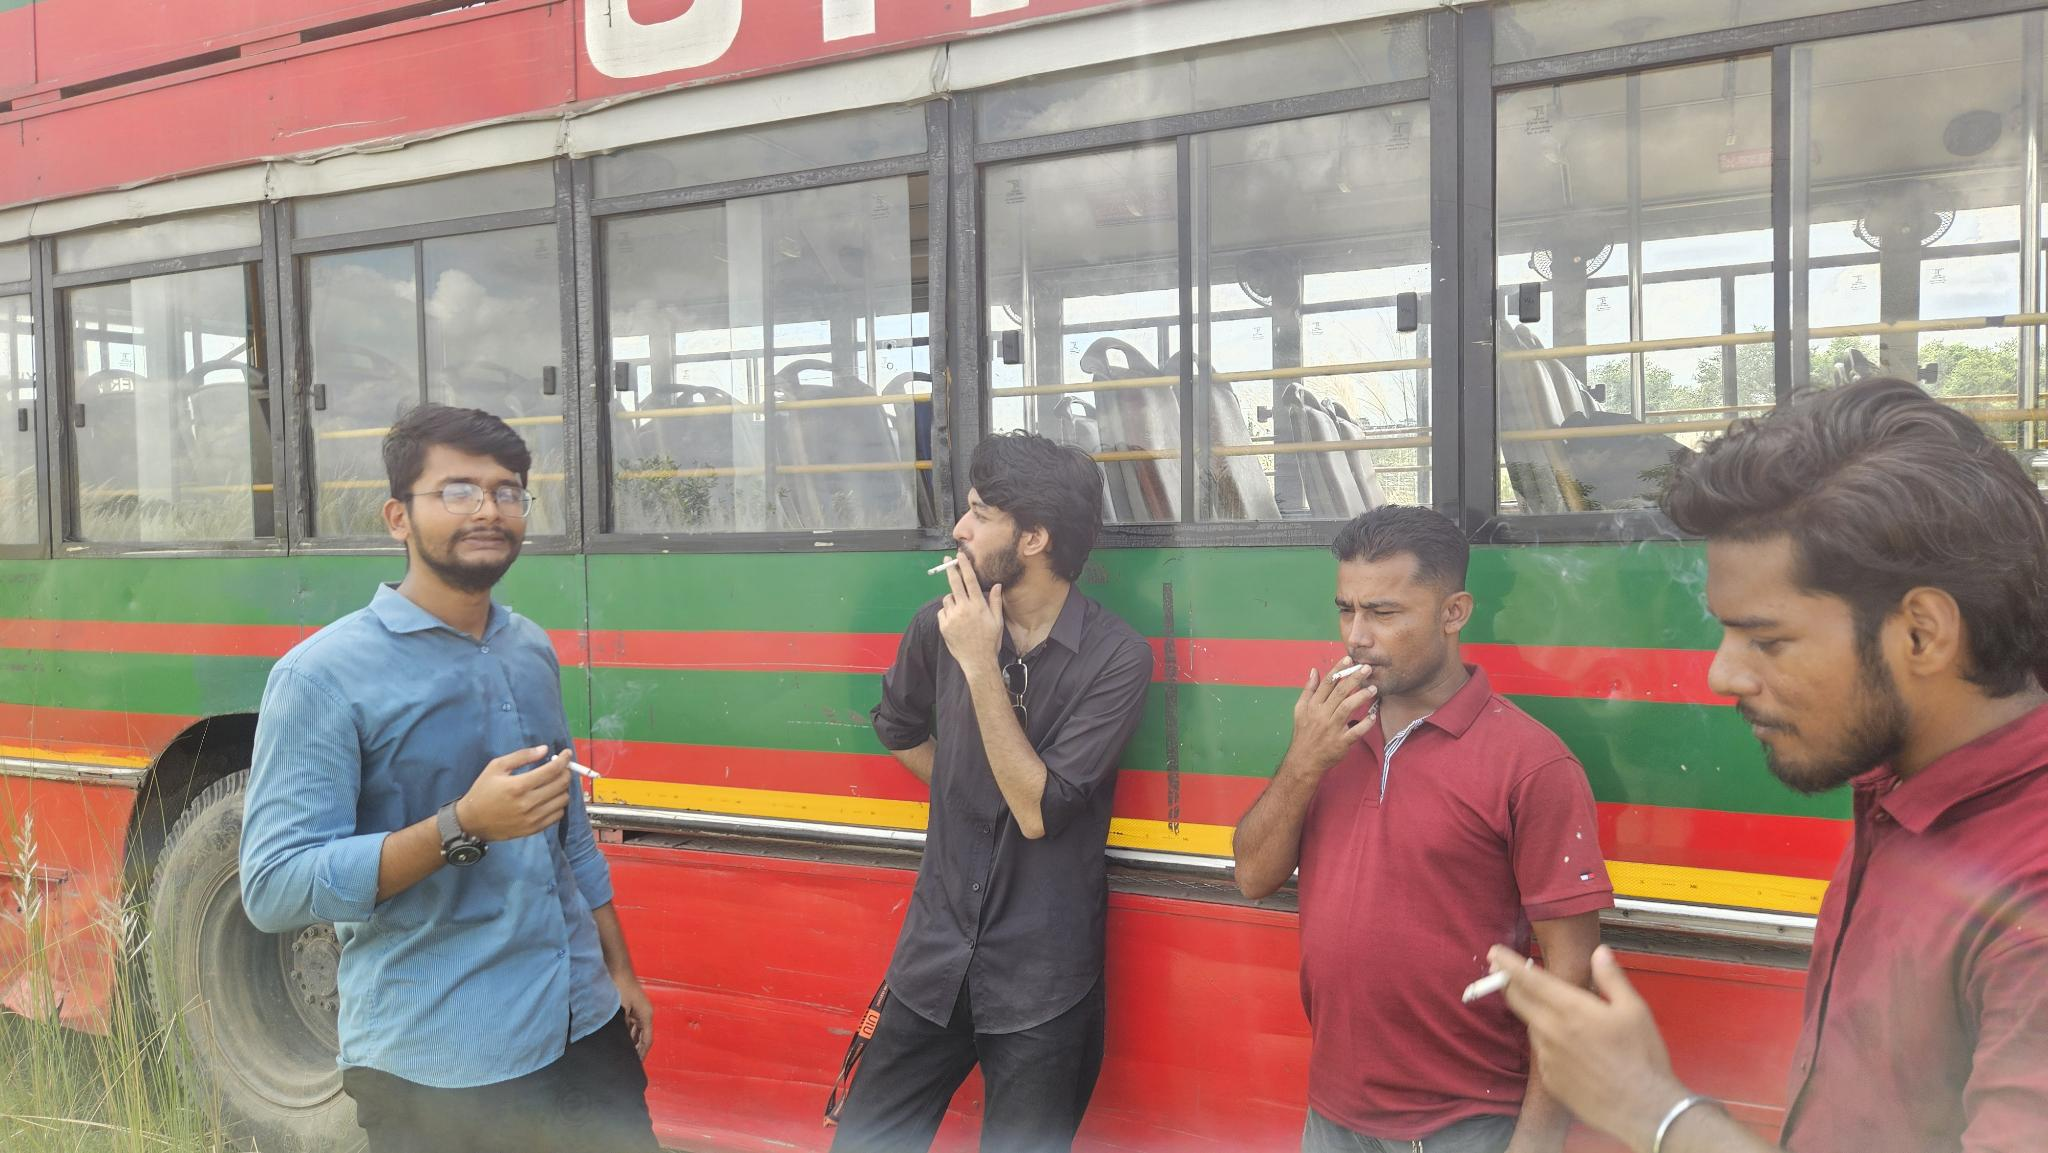cigarette: (1459, 965, 1516, 1007), (550, 754, 602, 780), (1331, 662, 1364, 682), (926, 557, 959, 576)
smoker: (1484, 377, 2048, 1153), (238, 404, 665, 1153), (1232, 503, 1612, 1153), (826, 432, 1155, 1153)
